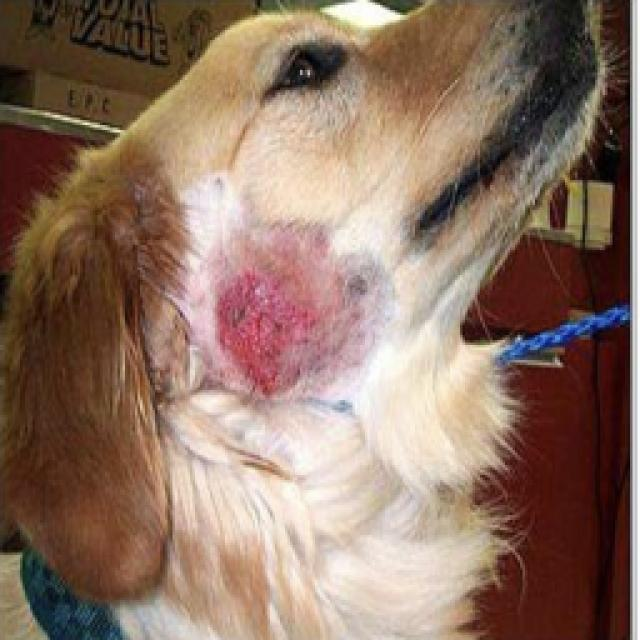hotspot: (220, 266, 302, 372)
